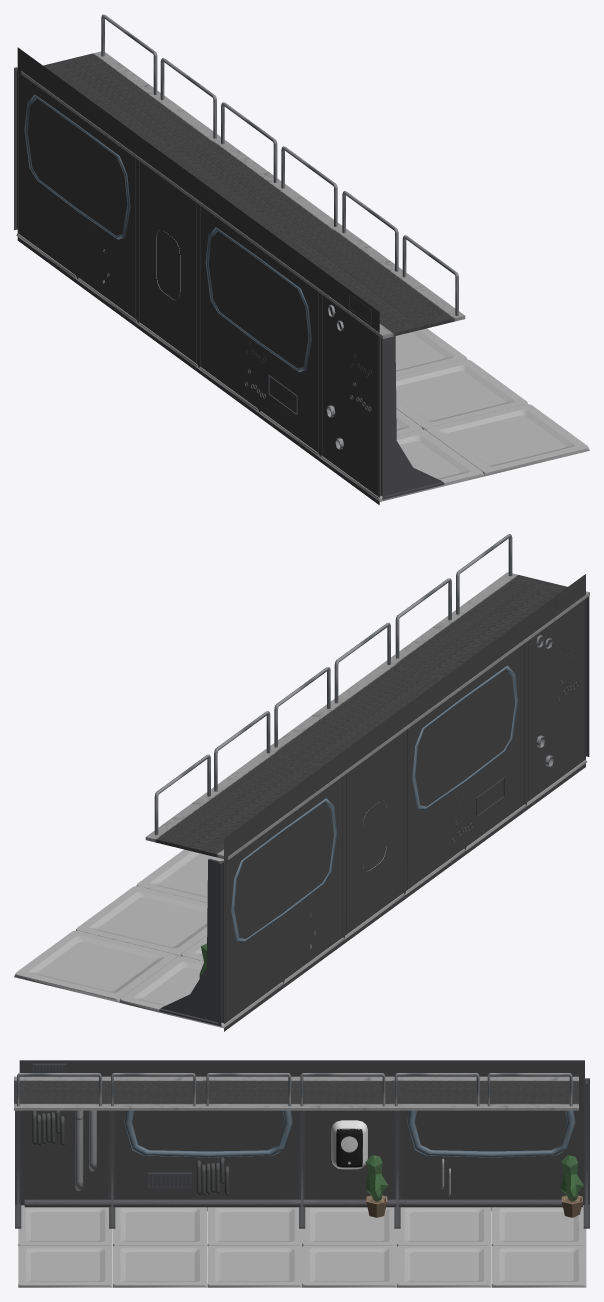
File: bleh.fbx
The picture shows the model from 3 angles, top to bottom: view 1: azimuth 30°, elevation 25°; view 2: azimuth 150°, elevation 25°; view 3: azimuth 270°, elevation 25°; orthographic projection. The views are drawn at different scales.
Parts seen in each view (by area): view 1: Wall, hahaCatWalk4, hahaCatWalk5, hahaCatWalk3:hahaCatWalk, FloorPanel3, FloorPanel4, SpaceBrace1:SpaceBrace, FloorPanel2, FloorPanel7, WindowFrame3, WindowFrame2:WindowFrame, SpaceBrace5 (+1 smaller); view 2: Wall, hahaCatWalk5, hahaCatWalk4, hahaCatWalk3:hahaCatWalk, FloorPanel10, FloorPanel11, SpaceBrace5, FloorPanel9, FloorPanel5, WindowFrame2:WindowFrame, WindowFrame3, SpaceBrace1:SpaceBrace; view 3: Wall, hahaCatWalk3:hahaCatWalk, hahaCatWalk5, hahaCatWalk4, StraightPipe1:StraightPipe, FloorPanel7, FloorPanel3, FloorPanel11, FloorPanel4, FloorPanel5, FloorPanel10, FloorPanel1:FloorPanel (+26 smaller).
Boxes of the visible parts, x1=… form: Wall: x1=17, y1=47, x2=379, y2=504; hahaCatWalk4: x1=261, y1=228, x2=465, y2=338; hahaCatWalk5: x1=21, y1=51, x2=220, y2=161; hahaCatWalk3:hahaCatWalk: x1=141, y1=139, x2=342, y2=250; FloorPanel3: x1=426, y1=404, x2=589, y2=476; FloorPanel4: x1=396, y1=359, x2=527, y2=430; SpaceBrace1:SpaceBrace: x1=378, y1=336, x2=444, y2=499; FloorPanel2: x1=319, y1=429, x2=484, y2=501; FloorPanel7: x1=395, y1=328, x2=467, y2=376; WindowFrame3: x1=24, y1=94, x2=130, y2=239; WindowFrame2:WindowFrame: x1=205, y1=227, x2=311, y2=371; SpaceBrace5: x1=14, y1=67, x2=18, y2=232; Wall: x1=224, y1=574, x2=585, y2=1031; hahaCatWalk5: x1=145, y1=749, x2=348, y2=859; hahaCatWalk4: x1=387, y1=572, x2=589, y2=683; hahaCatWalk3:hahaCatWalk: x1=266, y1=660, x2=468, y2=772; FloorPanel10: x1=14, y1=930, x2=177, y2=1002; FloorPanel11: x1=76, y1=886, x2=207, y2=956; SpaceBrace5: x1=159, y1=858, x2=225, y2=1026; FloorPanel9: x1=119, y1=956, x2=283, y2=1028; FloorPanel5: x1=136, y1=849, x2=223, y2=902; WindowFrame2:WindowFrame: x1=412, y1=665, x2=518, y2=810; WindowFrame3: x1=231, y1=798, x2=337, y2=942; SpaceBrace1:SpaceBrace: x1=584, y1=596, x2=589, y2=759; Wall: x1=19, y1=1060, x2=584, y2=1210; hahaCatWalk3:hahaCatWalk: x1=202, y1=1076, x2=391, y2=1110; hahaCatWalk5: x1=390, y1=1076, x2=578, y2=1110; hahaCatWalk4: x1=14, y1=1076, x2=202, y2=1110; StraightPipe1:StraightPipe: x1=24, y1=1199, x2=582, y2=1207; FloorPanel7: x1=207, y1=1245, x2=302, y2=1287; FloorPanel3: x1=18, y1=1245, x2=112, y2=1287; FloorPanel11: x1=397, y1=1245, x2=491, y2=1287; FloorPanel4: x1=113, y1=1245, x2=207, y2=1287; FloorPanel5: x1=302, y1=1245, x2=396, y2=1287; FloorPanel10: x1=492, y1=1245, x2=586, y2=1287; FloorPanel1:FloorPanel: x1=113, y1=1207, x2=207, y2=1246.
Bounding box in the file's own units: 11.94 × 11.5 × 35.83.
Materials: 12 (11 with a texture image).
